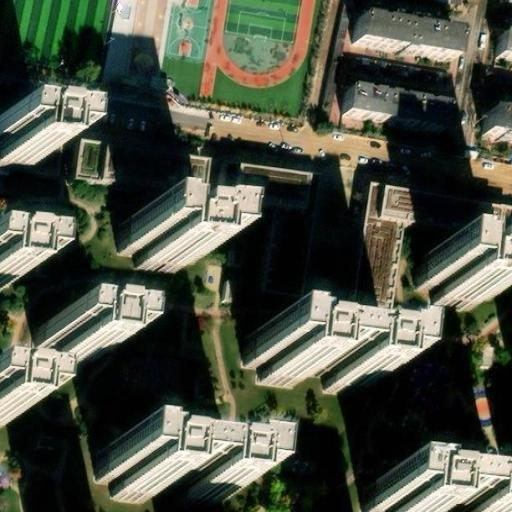building: (345, 182, 490, 307), (216, 177, 312, 310), (238, 335, 370, 392), (91, 457, 223, 512), (72, 153, 197, 206), (356, 17, 457, 62), (345, 105, 447, 146), (413, 260, 489, 311), (358, 484, 490, 512), (28, 330, 93, 372), (118, 228, 183, 270), (483, 112, 512, 147), (493, 30, 512, 63)
